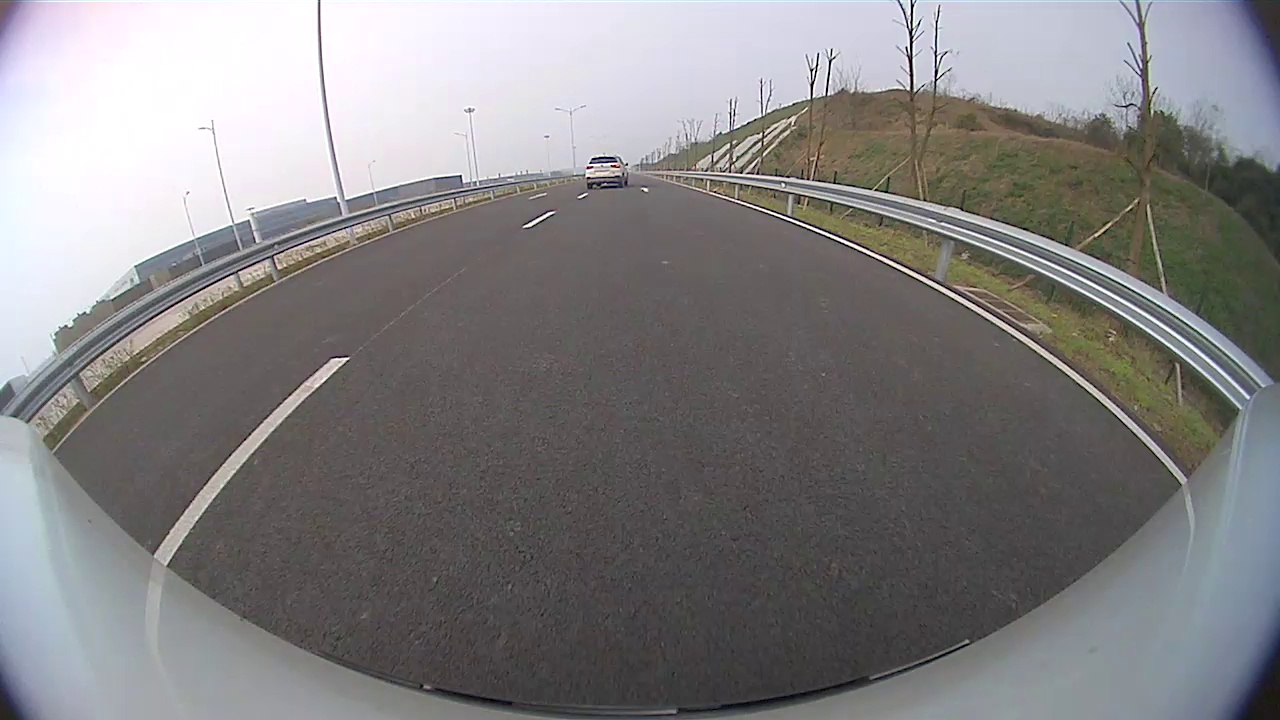car: (584, 154, 630, 191)
